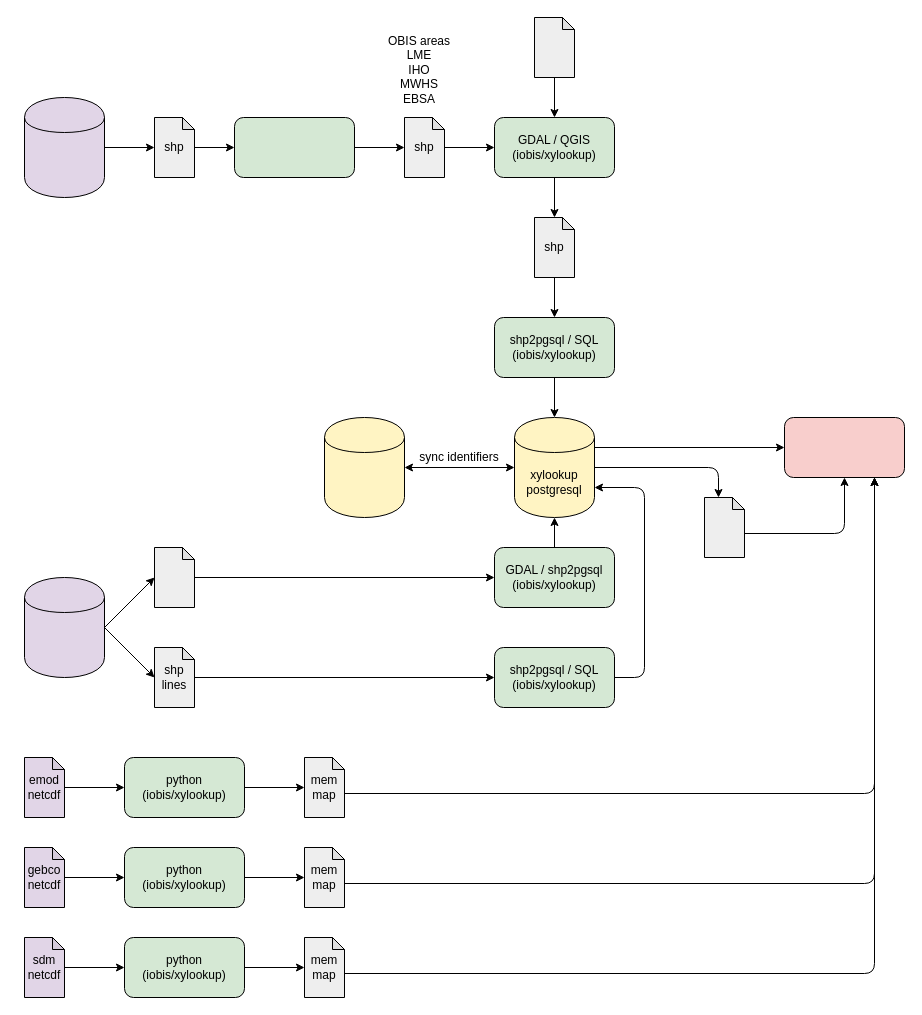
Image size: 922x1015. Some labels were removed from this diagram. The shapes that lost their labels are listed below. From the top down, each one's centre as x and y in pixels, then its label:
[554,47]: grid
[64,147]: Marine Regions
[294,147]: GDAL / QGIS (iobis/api)
[364,467]: OBIS postgresql
[844,447]: xylookup python
[724,527]: json lines
[174,577]: shp water
[64,627]: Open Street Map
